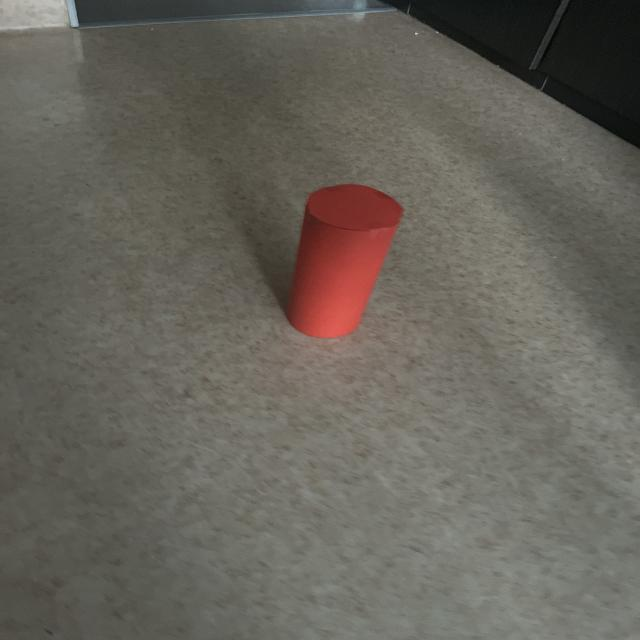przeszkoda: (287, 184, 403, 338)
